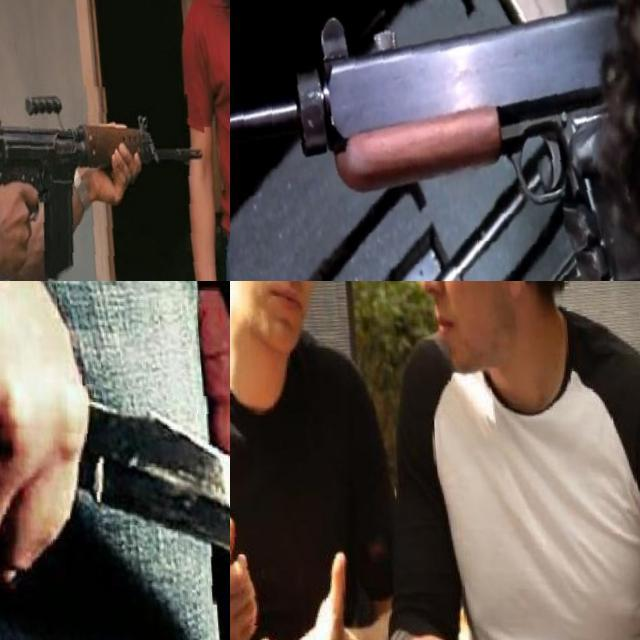-: (0, 373, 230, 610), (230, 445, 269, 623)
gun-knife-thesis - v11 Yolov5 augmented: (230, 0, 640, 281), (0, 69, 207, 281)
